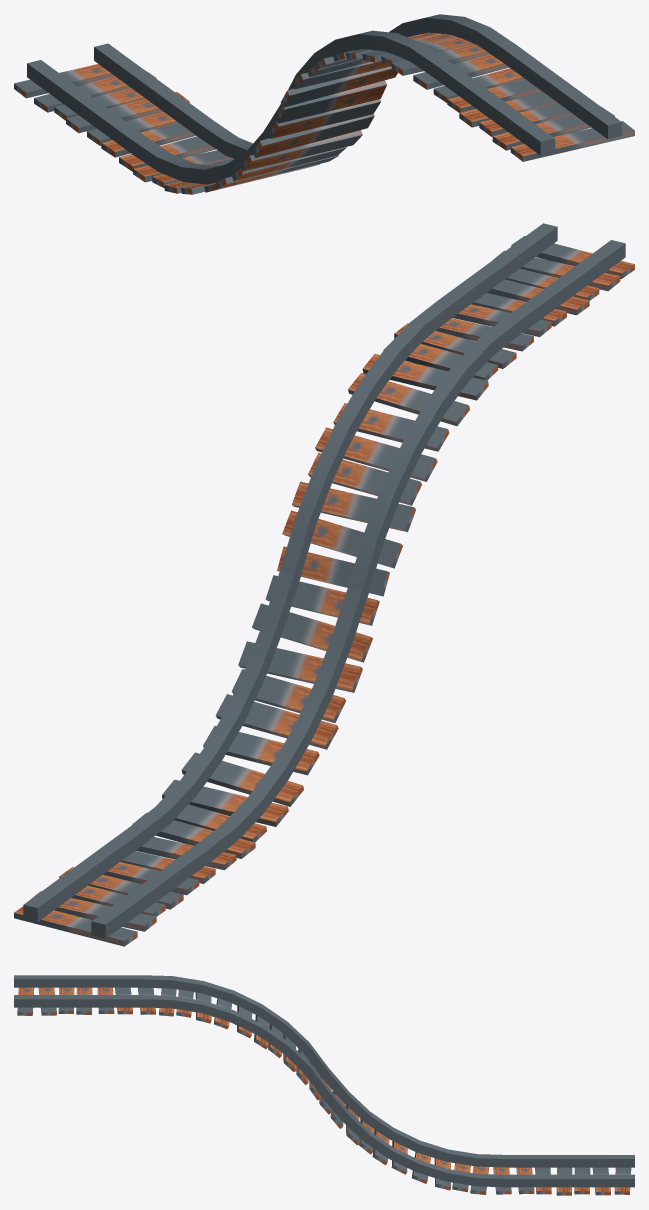
Rendered from long_upside1.fbx.
3 views of the same model, one above another, from view 1: azimuth 30°, elevation 25°; view 2: azimuth 150°, elevation 25°; view 3: azimuth 270°, elevation 25° (orthographic). The views are drawn at different scales.
Visible parts, largest first — view 1: long_upside1; view 2: long_upside1; view 3: long_upside1.
Boxes of the visible parts, x1,y1,x2,y2 form: long_upside1: (14,14,634,194); long_upside1: (14,223,634,946); long_upside1: (14,975,634,1195).
Size of the model in its own units: 12.64 by 33.43 by 98.14.
